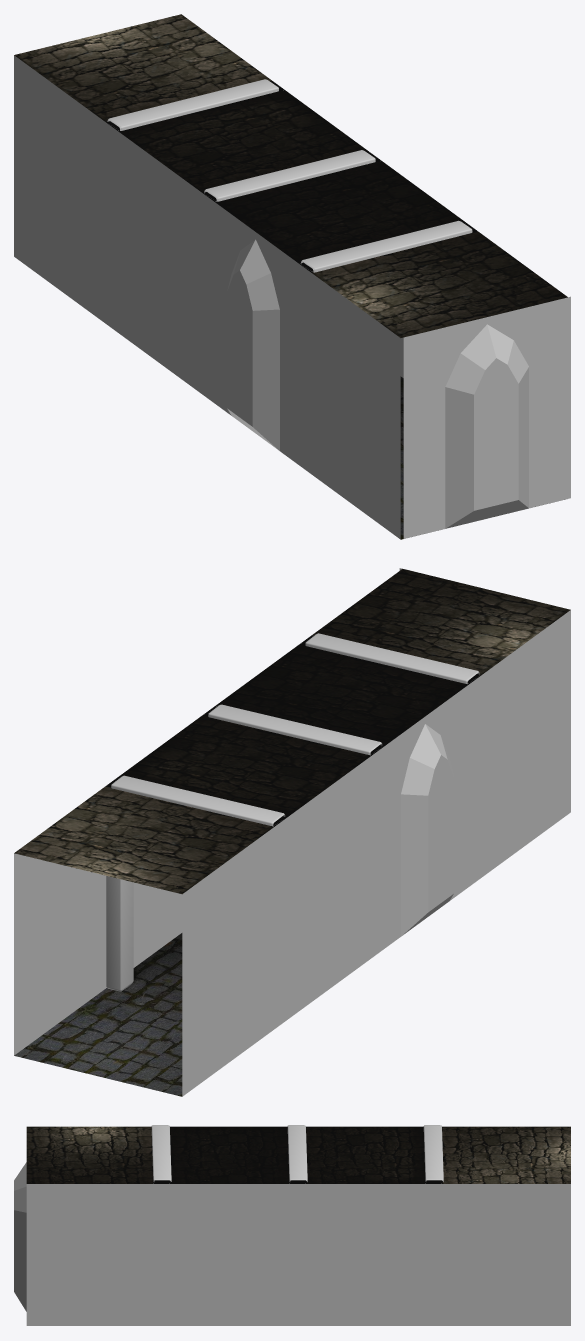
File: corridor01.fbx
3 renders of one model, top to bottom at view 1: azimuth 30°, elevation 25°; view 2: azimuth 150°, elevation 25°; view 3: azimuth 270°, elevation 25°, orthographic. The views are drawn at different scales.
Parts seen in each view (by area): view 1: castle_wall01, castle_ceiling01, castle_beam01, castle_floor01; view 2: castle_wall01, castle_ceiling01, castle_floor01, castle_beam01; view 3: castle_wall01, castle_ceiling01, castle_beam01.
Part boxes in pixels (x1,y1,x2,y2): castle_wall01: [14, 55, 570, 539]; castle_ceiling01: [14, 14, 567, 337]; castle_beam01: [107, 79, 477, 272]; castle_floor01: [400, 376, 564, 539]; castle_wall01: [14, 568, 570, 1096]; castle_ceiling01: [14, 569, 570, 894]; castle_floor01: [14, 933, 182, 1096]; castle_beam01: [106, 633, 479, 991]; castle_wall01: [14, 1162, 570, 1325]; castle_ceiling01: [26, 1126, 570, 1183]; castle_beam01: [151, 1125, 443, 1183].
Size of the model in its own units: 222 by 234 by 819.
